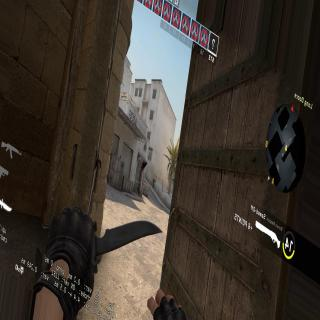CT-Body: (153, 178, 155, 187)
CT-Head: (154, 178, 156, 180)
